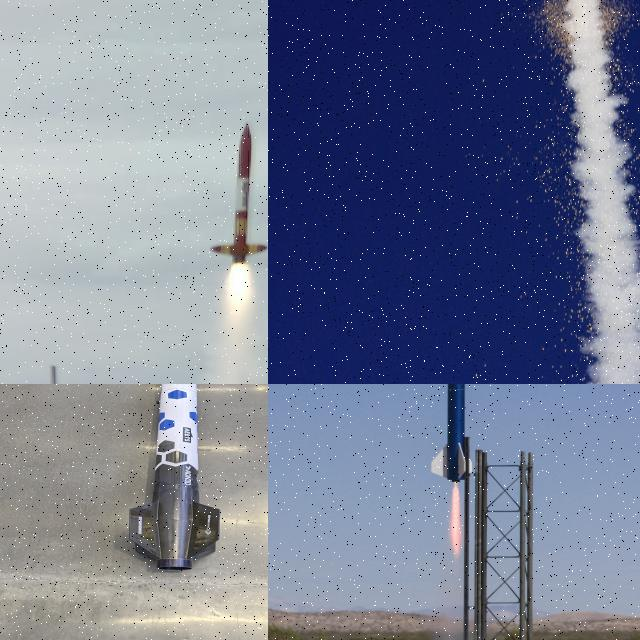Rocket: (128, 384, 221, 571), (208, 120, 268, 264), (429, 384, 472, 483)
